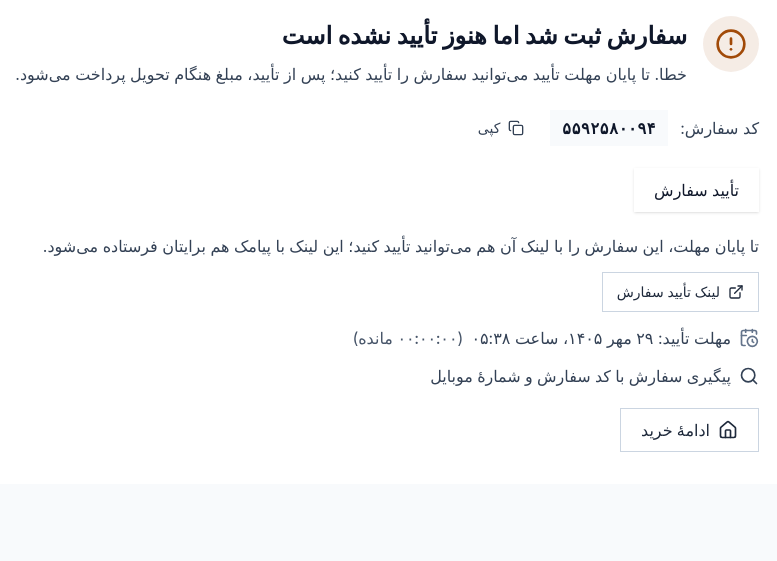
Test case: ThanksPage › a confirmation that failed: «تأیید سفارش» again (a new key), then confirmed
The width and height of the screenshot is (777, 561).
Expected: the heading "سفارش ثبت شد اما هنوز تأیید نشده است" is shown, [282,21,687,50]
Click the button "تأیید سفارش".
click(697, 190)  # box [634,168,759,212]
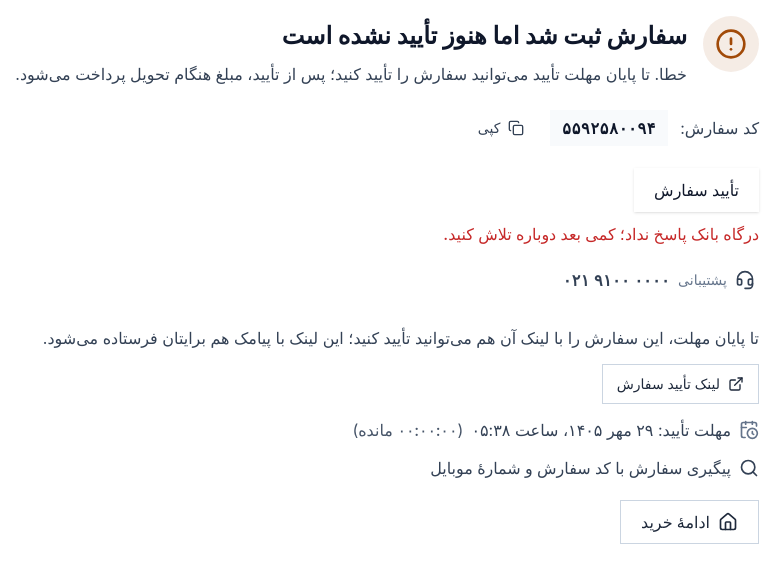
Now the message shows "درگاه بانک پاسخ نداد", box [443,224,759,244]
Click the button "تأیید سفارش".
click(697, 190)  # box [634,168,759,212]
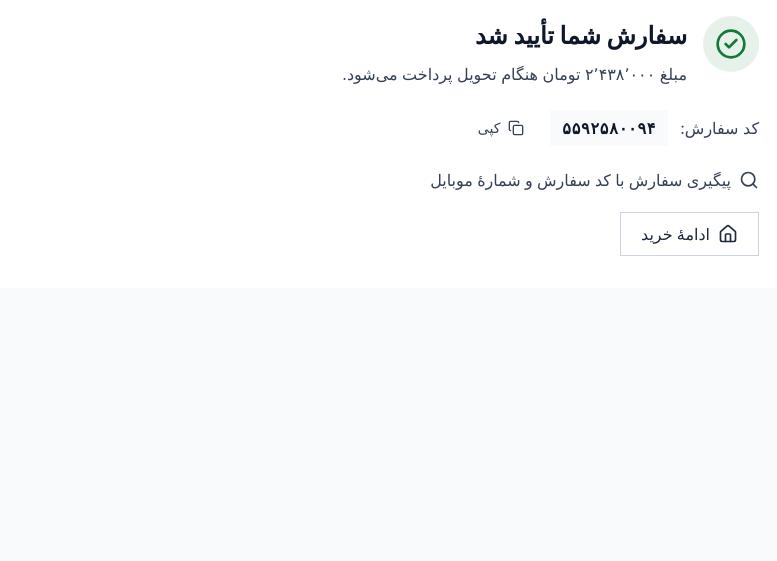
Now the heading "سفارش شما تأیید شد" is shown, box [475,21,687,50]
